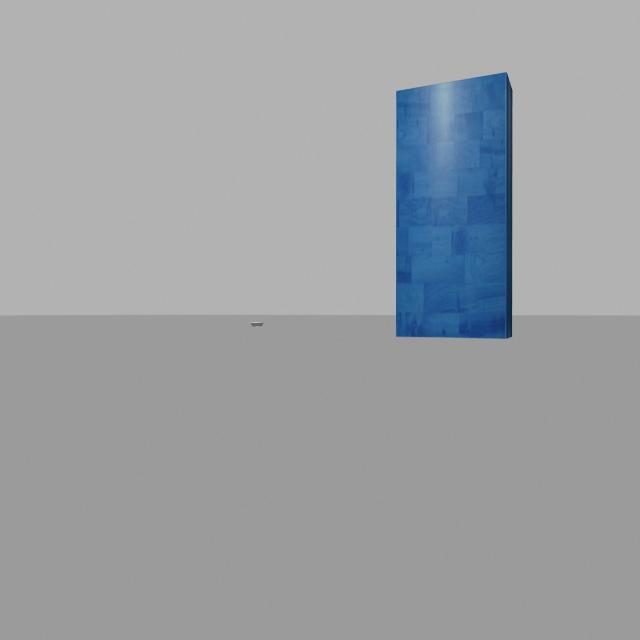bowl: (241, 316, 270, 332)
shelf: (384, 64, 524, 346)
